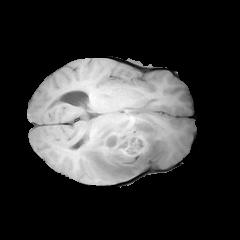glioma: (78, 109, 165, 184)
